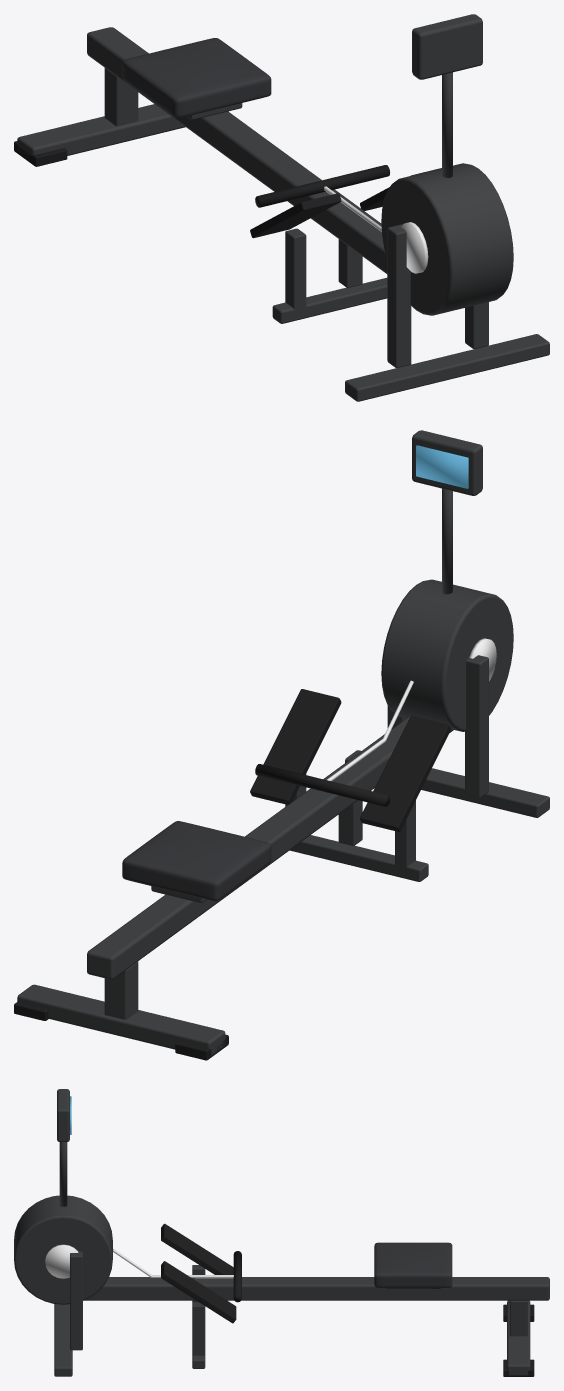
File: guest_rower.gltf
The picture shows the model from 3 angles, top to bottom: view 1: azimuth 30°, elevation 25°; view 2: azimuth 150°, elevation 25°; view 3: azimuth 270°, elevation 25°; orthographic projection. The views are drawn at different scales.
Parts seen in each view (by area): view 1: GuestRower_DetailPiping_Steel_Graphite, GuestRower_Rail, GuestRower_Seat, GuestRower_FrontFoot, GuestRower_DetailPiping_Rubber_Black, GuestRower_LegRear, GuestRower_FootBar, GuestRower_DetailPiping_Steel_Polished; view 2: GuestRower_DetailPiping_Steel_Graphite, GuestRower_DetailPiping_Rubber_Black, GuestRower_Rail, GuestRower_Seat, GuestRower_LegRear, GuestRower_FrontFoot, GuestRower_FootBar, GuestRower_Screen; view 3: GuestRower_DetailPiping_Steel_Graphite, GuestRower_Rail, GuestRower_DetailPiping_Rubber_Black, GuestRower_Seat, GuestRower_FrontFoot, GuestRower_LegRear, GuestRower_DetailPiping_Steel_Polished, GuestRower_Chain.
Boxes of the visible parts, box(x1,y1,x2,y2) form: GuestRower_DetailPiping_Steel_Graphite: box(104, 14, 513, 367); GuestRower_Rail: box(87, 27, 387, 273); GuestRower_Seat: box(122, 38, 271, 117); GuestRower_FrontFoot: box(345, 334, 549, 401); GuestRower_DetailPiping_Rubber_Black: box(14, 111, 441, 238); GuestRower_LegRear: box(17, 104, 185, 158); GuestRower_FootBar: box(272, 278, 387, 323); GuestRower_DetailPiping_Steel_Polished: box(401, 222, 428, 273); GuestRower_DetailPiping_Steel_Graphite: box(104, 430, 513, 1019); GuestRower_DetailPiping_Rubber_Black: box(14, 689, 450, 1060); GuestRower_Rail: box(87, 716, 453, 979); GuestRower_Seat: box(122, 821, 271, 901); GuestRower_LegRear: box(17, 984, 225, 1055); GuestRower_FrontFoot: box(345, 750, 549, 817); GuestRower_FootBar: box(289, 835, 428, 881); GuestRower_Screen: box(416, 445, 468, 488); GuestRower_DetailPiping_Steel_Graphite: box(14, 1089, 527, 1356); GuestRower_Rail: box(84, 1277, 549, 1300); GuestRower_DetailPiping_Rubber_Black: box(161, 1223, 534, 1376); GuestRower_Seat: box(374, 1242, 452, 1287); GuestRower_FrontFoot: box(54, 1304, 72, 1376); GuestRower_LegRear: box(507, 1300, 530, 1375); GuestRower_DetailPiping_Steel_Polished: box(45, 1244, 78, 1278); GuestRower_Chain: box(113, 1249, 233, 1278).
Bounding box in the file's own units: 0.6 × 1.04 × 2.06.
